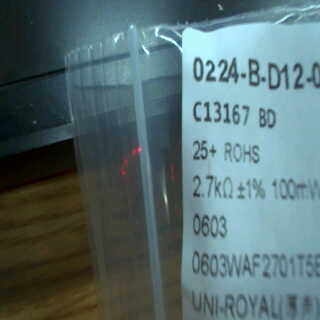2.7kR: (188, 171, 237, 207)
